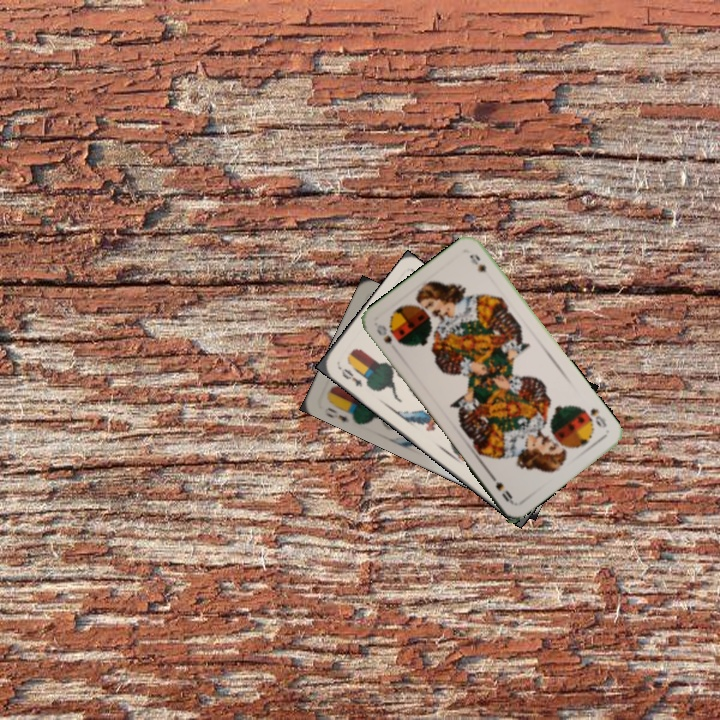EO: (323, 400, 357, 425), (335, 363, 365, 390)
SO: (579, 404, 609, 431), (372, 320, 395, 346)
